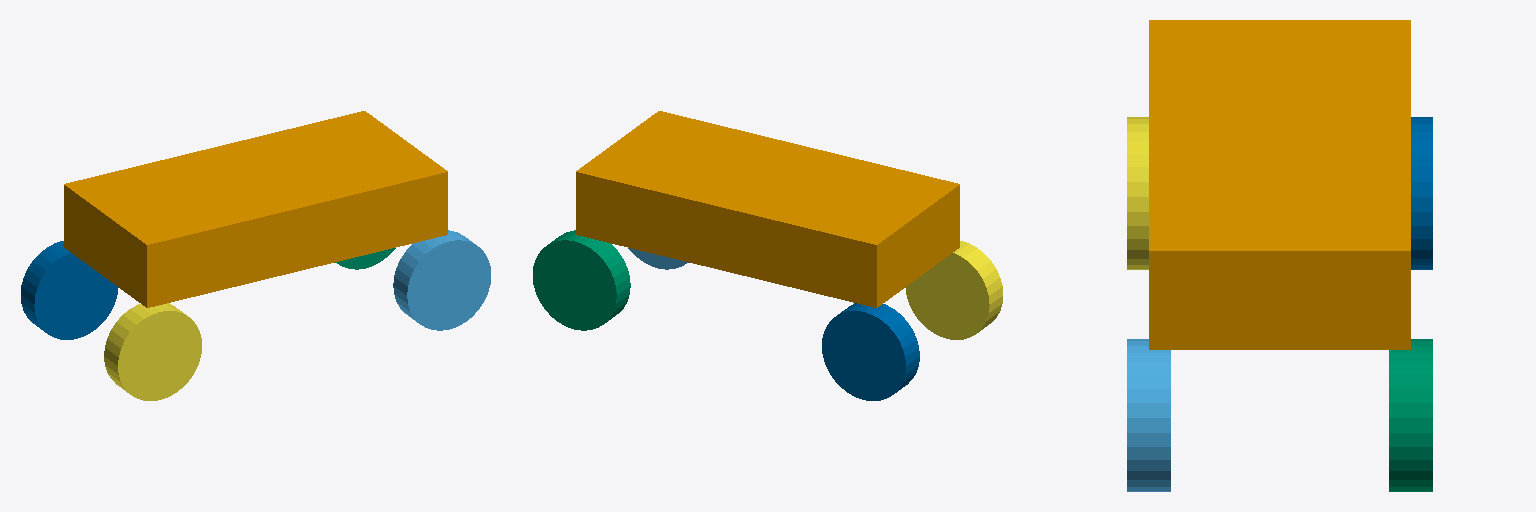
URDF robot description (car_with_steering_suspension):
<?xml version="1.0"?>
<robot name="car_with_steering_suspension">

  <!-- 🚗 차체 -->
  <link name="car_body">
    <inertial>
      <mass value="1200.0"/>
      <inertia
        ixx="400" ixy="0"  ixz="0"
        iyy="800" iyz="0"
        izz="400"/>
    </inertial>
    <collision>
      <geometry><box size="2.5 1.2 0.5"/></geometry>
    </collision>
    <visual>
      <geometry><box size="2.5 1.2 0.5"/></geometry>
    </visual>
  </link>

  <!-- 🛞 바퀴 링크 -->
  <link name="wheel_fl">
    <inertial>
      <mass value="20.0"/>
      <inertia
        ixx="0.5" ixy="0" ixz="0"
        iyy="1.0" iyz="0"
        izz="0.5"/>
    </inertial>
    <collision>
      <origin rpy="1.5708 0 0"/>
      <geometry><cylinder radius="0.35" length="0.2"/></geometry>
    </collision>
    <visual>
      <origin rpy="1.5708 0 0"/>
      <geometry><cylinder radius="0.35" length="0.2"/></geometry>
    </visual>
  </link>

  <link name="wheel_fr">
    <inertial>
      <mass value="20.0"/>
      <inertia
        ixx="0.5" ixy="0" ixz="0"
        iyy="1.0" iyz="0"
        izz="0.5"/>
    </inertial>
    <collision>
      <origin rpy="1.5708 0 0"/>
      <geometry><cylinder radius="0.35" length="0.2"/></geometry>
    </collision>
    <visual>
      <origin rpy="1.5708 0 0"/>
      <geometry><cylinder radius="0.35" length="0.2"/></geometry>
    </visual>
  </link>

  <link name="wheel_rl">
    <inertial>
      <mass value="20.0"/>
      <inertia
        ixx="0.5" ixy="0" ixz="0"
        iyy="1.0" iyz="0"
        izz="0.5"/>
    </inertial>
    <collision>
      <origin rpy="1.5708 0 0"/>
      <geometry><cylinder radius="0.35" length="0.2"/></geometry>
    </collision>
    <visual>
      <origin rpy="1.5708 0 0"/>
      <geometry><cylinder radius="0.35" length="0.2"/></geometry>
    </visual>
  </link>

  <link name="wheel_rr">
    <inertial>
      <mass value="20.0"/>
      <inertia
        ixx="0.5" ixy="0" ixz="0"
        iyy="1.0" iyz="0"
        izz="0.5"/>
    </inertial>
    <collision>
      <origin rpy="1.5708 0 0"/>
      <geometry><cylinder radius="0.35" length="0.2"/></geometry>
    </collision>
    <visual>
      <origin rpy="1.5708 0 0"/>
      <geometry><cylinder radius="0.35" length="0.2"/></geometry>
    </visual>
  </link>

  <!-- ⚙️ 서스펜션 링크 (fixed 조인트이므로 최소한의 질량) -->
  <link name="susp_fl">
    <inertial>
      <mass value="1.0"/>
      <inertia ixx="0.01" ixy="0" ixz="0" iyy="0.01" iyz="0" izz="0.01"/>
    </inertial>
  </link>
  <link name="susp_fr">
    <inertial>
      <mass value="1.0"/>
      <inertia ixx="0.01" ixy="0" ixz="0" iyy="0.01" iyz="0" izz="0.01"/>
    </inertial>
  </link>
  <link name="susp_rl">
    <inertial>
      <mass value="1.0"/>
      <inertia ixx="0.01" ixy="0" ixz="0" iyy="0.01" iyz="0" izz="0.01"/>
    </inertial>
  </link>
  <link name="susp_rr">
    <inertial>
      <mass value="1.0"/>
      <inertia ixx="0.01" ixy="0" ixz="0" iyy="0.01" iyz="0" izz="0.01"/>
    </inertial>
  </link>

  <!-- 🔄 조향 링크 (앞바퀴용, 조향과 회전을 분리) -->
  <link name="steer_fl_link">
    <inertial>
      <mass value="0.5"/>
      <inertia ixx="0.01" ixy="0" ixz="0" iyy="0.01" iyz="0" izz="0.01"/>
    </inertial>
  </link>
  <link name="steer_fr_link">
    <inertial>
      <mass value="0.5"/>
      <inertia ixx="0.01" ixy="0" ixz="0" iyy="0.01" iyz="0" izz="0.01"/>
    </inertial>
  </link>

  <!-- 🔩 조인트 구조 -->
  <!-- 앞왼쪽 -->
  <joint name="susp_fl_joint" type="fixed">
    <parent link="car_body"/>
    <child link="susp_fl"/>
    <origin xyz="1.2 -0.6 -0.25" rpy="0 0 0"/>
  </joint>

  <joint name="steer_fl" type="revolute">
    <parent link="susp_fl"/>
    <child link="steer_fl_link"/>
    <origin xyz="0 0 -0.35" rpy="0 0 0"/>
    <axis xyz="0 0 1"/>
    <limit lower="-0.6" upper="0.6" effort="500" velocity="2"/>
  </joint>

  <joint name="wheel_fl_rotate" type="continuous">
    <parent link="steer_fl_link"/>
    <child link="wheel_fl"/>
    <origin xyz="0 0 0" rpy="0 0 0"/>
    <axis xyz="0 1 0"/>
  </joint>

  <!-- 앞오른쪽 -->
  <joint name="susp_fr_joint" type="fixed">
    <parent link="car_body"/>
    <child link="susp_fr"/>
    <origin xyz="1.2 0.6 -0.25" rpy="0 0 0"/>
  </joint>

  <joint name="steer_fr" type="revolute">
    <parent link="susp_fr"/>
    <child link="steer_fr_link"/>
    <origin xyz="0 0 -0.35" rpy="0 0 0"/>
    <axis xyz="0 0 1"/>
    <limit lower="-0.6" upper="0.6" effort="500" velocity="2"/>
  </joint>

  <joint name="wheel_fr_rotate" type="continuous">
    <parent link="steer_fr_link"/>
    <child link="wheel_fr"/>
    <origin xyz="0 0 0" rpy="0 0 0"/>
    <axis xyz="0 1 0"/>
  </joint>

  <!-- 뒤왼쪽 -->
  <joint name="susp_rl_joint" type="fixed">
    <parent link="car_body"/>
    <child link="susp_rl"/>
    <origin xyz="-1.2 -0.6 -0.25" rpy="0 0 0"/>
  </joint>

  <joint name="rear_rl" type="continuous">
    <parent link="susp_rl"/>
    <child link="wheel_rl"/>
    <origin xyz="0 0 -0.35" rpy="0 0 0"/>
    <axis xyz="0 1 0"/>
  </joint>

  <!-- 뒤오른쪽 -->
  <joint name="susp_rr_joint" type="fixed">
    <parent link="car_body"/>
    <child link="susp_rr"/>
    <origin xyz="-1.2 0.6 -0.25" rpy="0 0 0"/>
  </joint>

  <joint name="rear_rr" type="continuous">
    <parent link="susp_rr"/>
    <child link="wheel_rr"/>
    <origin xyz="0 0 -0.35" rpy="0 0 0"/>
    <axis xyz="0 1 0"/>
  </joint>

</robot>

--- What the picture shows (computed from the rendered views, not written in the file) ---
3 views of the same robot in one strip: view 1: azimuth 30°, elevation 25°; view 2: azimuth 150°, elevation 25°; view 3: azimuth 270°, elevation 25° (orthographic).
Model car_with_steering_suspension with 11 links and 10 joints (2 revolute, 4 continuous, 4 fixed), rooted at car_body, posed all joints at 0.
Links seen in each view (by area): view 1: car_body, wheel_rl, wheel_fl, wheel_rr, wheel_fr; view 2: car_body, wheel_rr, wheel_fr, wheel_rl, wheel_fl; view 3: car_body, wheel_fl, wheel_fr, wheel_rl, wheel_rr.
Link boxes in pixels (bbox=[...]): car_body: bbox=[64, 111, 447, 307]; wheel_rl: bbox=[104, 303, 201, 400]; wheel_fl: bbox=[393, 230, 490, 330]; wheel_rr: bbox=[21, 241, 118, 339]; wheel_fr: bbox=[335, 248, 395, 269]; car_body: bbox=[576, 111, 959, 307]; wheel_rr: bbox=[822, 303, 919, 400]; wheel_fr: bbox=[533, 230, 630, 330]; wheel_rl: bbox=[905, 241, 1002, 339]; wheel_fl: bbox=[628, 248, 688, 269]; car_body: bbox=[1149, 20, 1410, 349]; wheel_fl: bbox=[1127, 339, 1170, 491]; wheel_fr: bbox=[1389, 339, 1432, 491]; wheel_rl: bbox=[1127, 117, 1148, 269]; wheel_rr: bbox=[1411, 117, 1432, 269].
Bounding box of the posed robot: 3.1 × 1.4 × 1.2 m (x, y, z).
Geometry: primitives only (box / cylinder / sphere), no mesh files.
